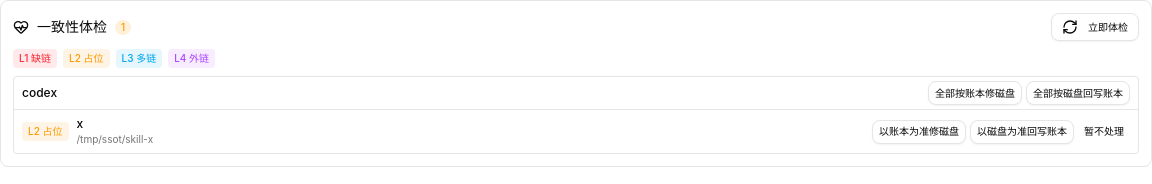
HealthCheckCard（批量 needs-manual 行回映，Finding 1 回归锁） › 批量 a 后 needs_manual 行转橙无按钮：结构化 extensionId/toolId 回映行键（message 不承载可解析格式）
Expected: the text "x" is shown, [76,116,83,131]
Expected: the button "以账本为准修磁盘" is shown, [872,120,966,144]
Note: 点组头批量 a（「全部按账本修磁盘」≠ 行级「以账本为准修磁盘」，exact 匹配区分）
Click the button "全部按账本修磁盘". click: (975, 93)
box: [928,81,1022,105]
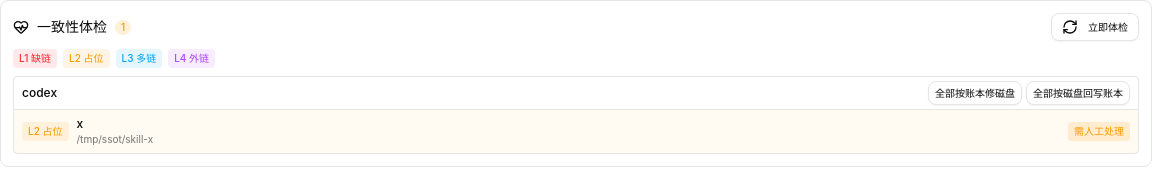
Now the button "以账本为准修磁盘" is gone
Now the button "以磁盘为准回写账本" is gone
